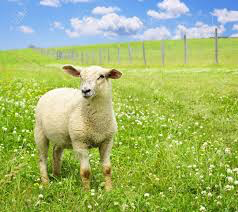koyun: (34, 63, 122, 193)
